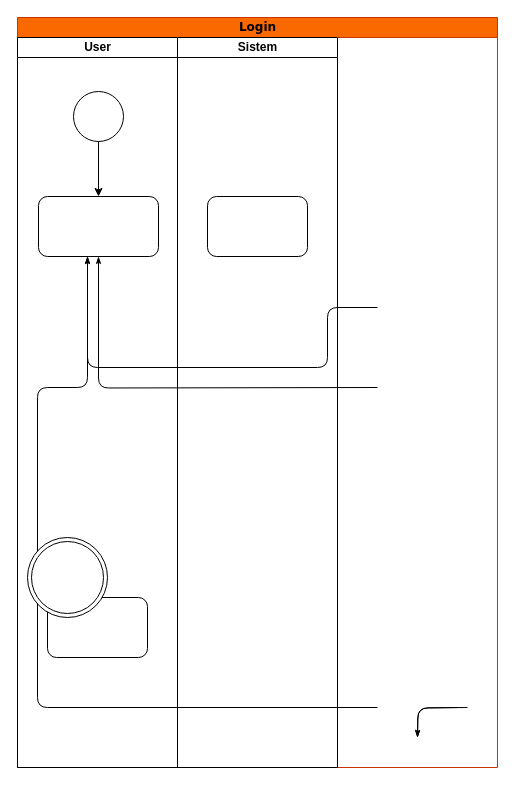
Some shapes in this 515 by 785 pixel diagram are drawn without their labels. Each missing label, with the centre of its shape:
Membuka Web Aplikasi: pixel 98 226
Menampilkan halaman login: pixel 257 226
